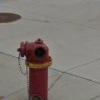Hydrant: (13, 28, 52, 100)
